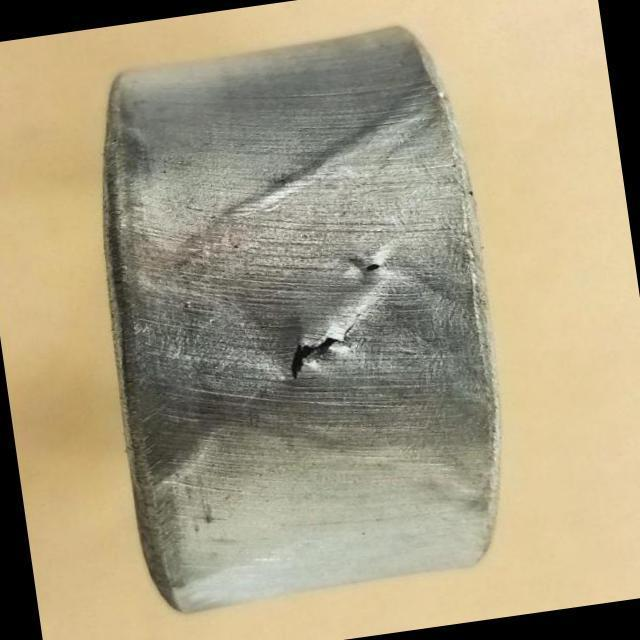defect: (282, 311, 365, 383)
